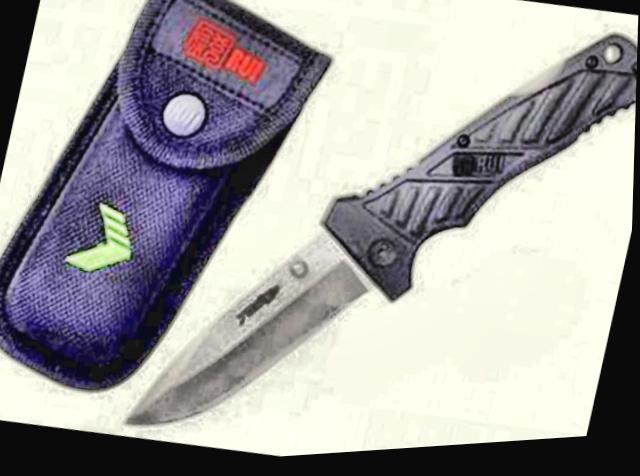knife: (118, 186, 400, 469)
